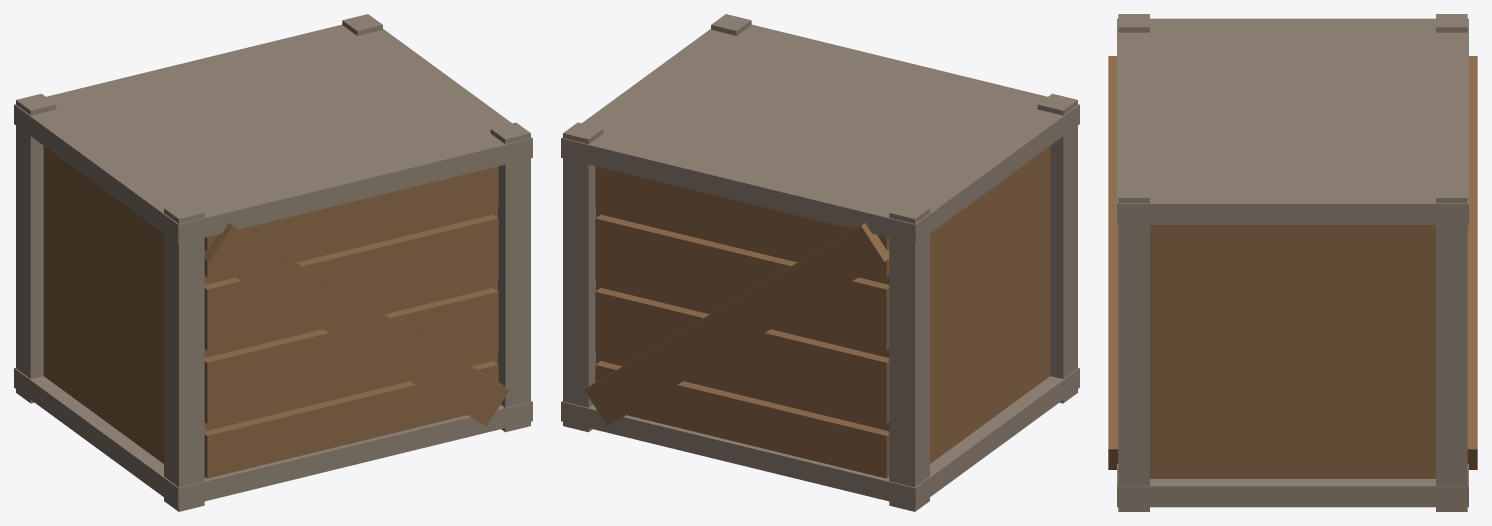
The model's file is Kit_Caisse.fbx.
3 views of the same model, side by side, from view 1: azimuth 30°, elevation 25°; view 2: azimuth 150°, elevation 25°; view 3: azimuth 270°, elevation 25° (orthographic). The views are drawn at different scales.
Visible parts, largest first — view 1: Kit_Caisse_Fer, Kit_Caisse_Bois; view 2: Kit_Caisse_Fer, Kit_Caisse_Bois; view 3: Kit_Caisse_Fer, Kit_Caisse_Bois.
Part boxes in pixels (x1=…): Kit_Caisse_Fer: x1=14, y1=14, x2=532, y2=511; Kit_Caisse_Bois: x1=43, y1=146, x2=509, y2=478; Kit_Caisse_Fer: x1=561, y1=14, x2=1079, y2=511; Kit_Caisse_Bois: x1=584, y1=146, x2=1050, y2=478; Kit_Caisse_Fer: x1=1117, y1=14, x2=1468, y2=511; Kit_Caisse_Bois: x1=1108, y1=56, x2=1477, y2=478.
Size of the model in its own units: 304 by 240 by 256.
